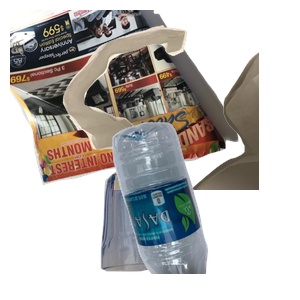glass: (98, 168, 251, 300)
paper: (10, 10, 241, 188)
plastic: (110, 120, 300, 300)
trash: (60, 23, 300, 203)
